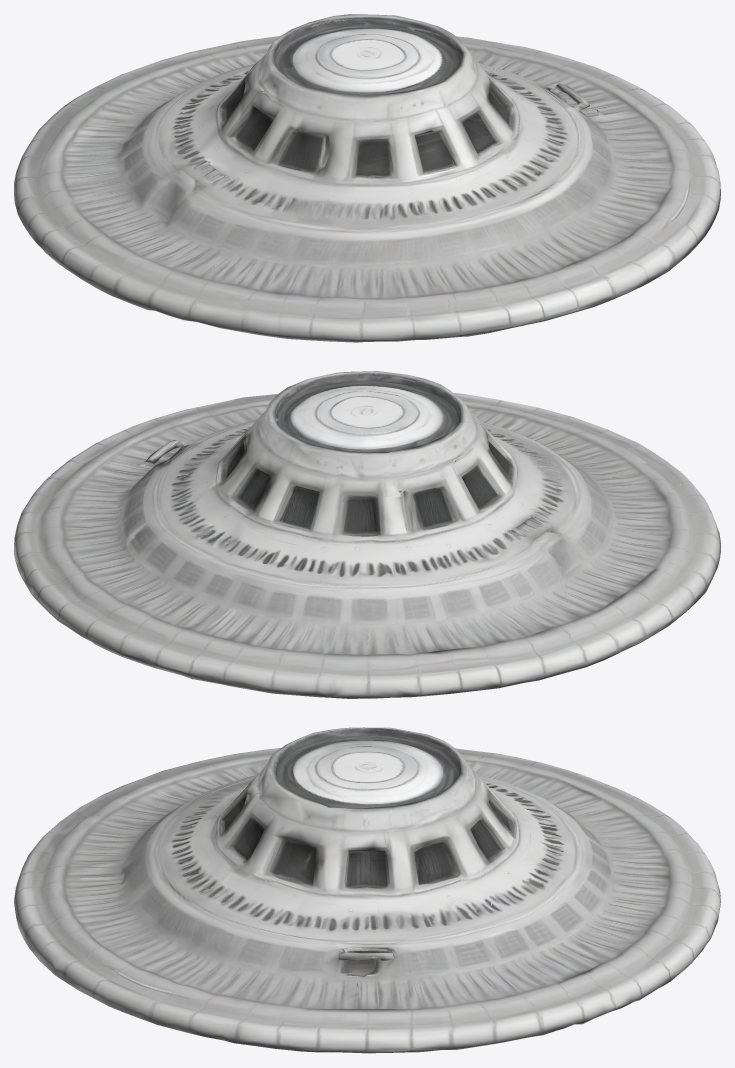
Rendered from Spaceship__0603110109_texture.glb.
3 renders of one model, top to bottom at view 1: azimuth 30°, elevation 25°; view 2: azimuth 150°, elevation 25°; view 3: azimuth 270°, elevation 25°, orthographic.
Bounding box in the file's own units: 2 × 0.6986 × 2.
Materials: 1 (1 with a texture image).
